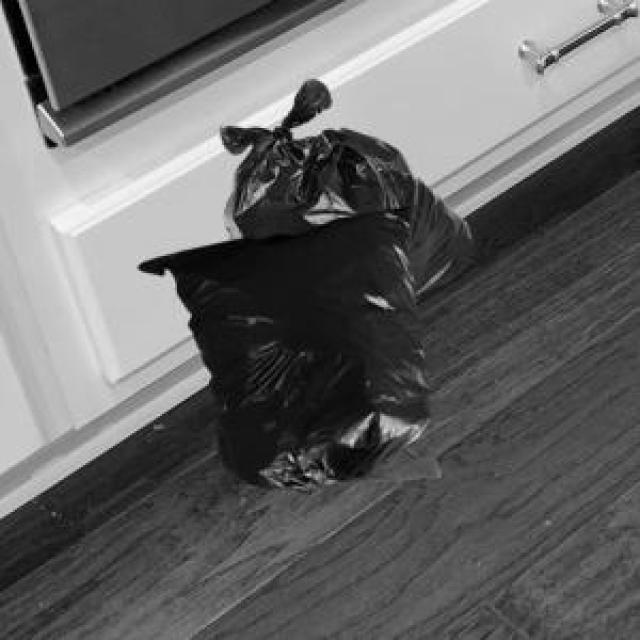miscellaneous trash: (134, 203, 435, 489), (216, 77, 469, 292)
